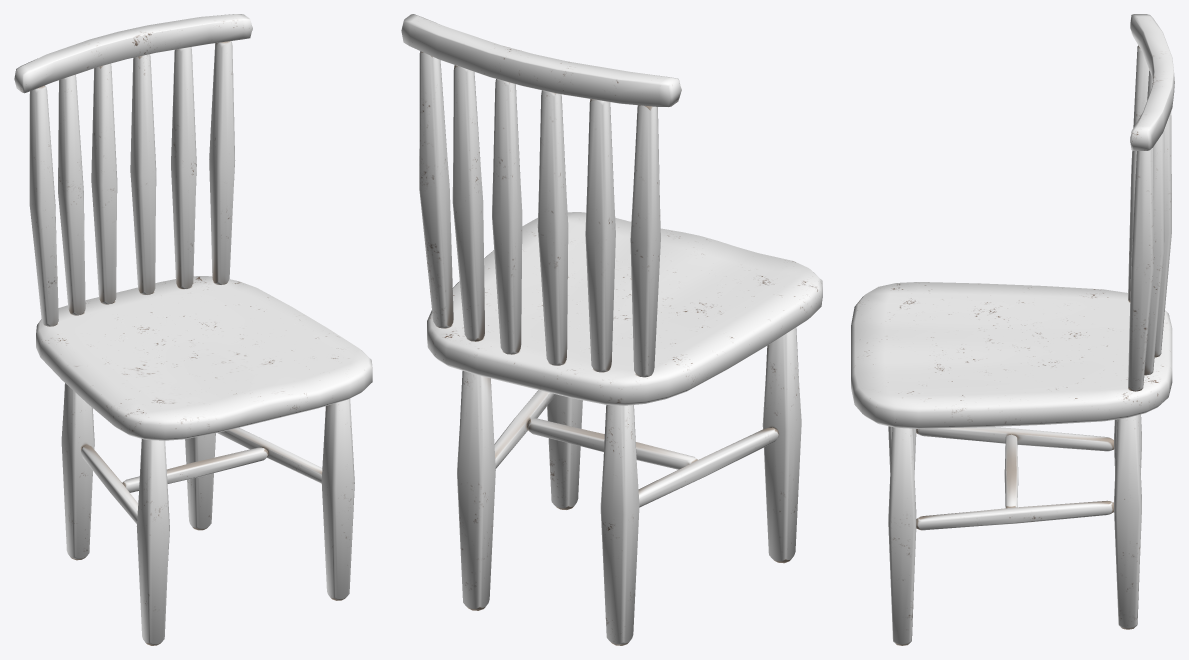
Rendered from Stuhl.glb.
The picture shows the model from 3 angles, left to right: view 1: azimuth 30°, elevation 25°; view 2: azimuth 150°, elevation 25°; view 3: azimuth 270°, elevation 25°; orthographic projection. The views are drawn at different scales.
Visible parts, largest first — view 1: Object_2; view 2: Object_2; view 3: Object_2.
Boxes of the visible parts, x1,y1,x2,y2 form: Object_2: (14,14,372,645); Object_2: (401,14,822,645); Object_2: (851,14,1174,645).
Bounding box in the file's own units: 0.54 × 1.02 × 0.5744.
1 material, 1 textured.
